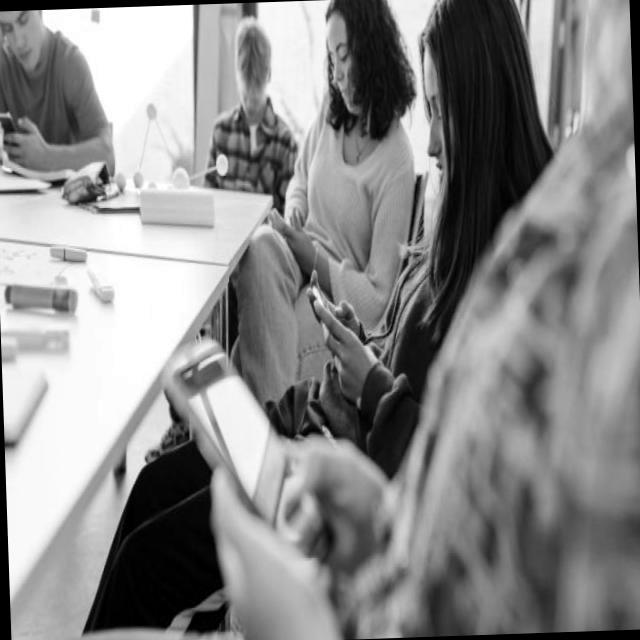phone: (162, 333, 334, 571)
